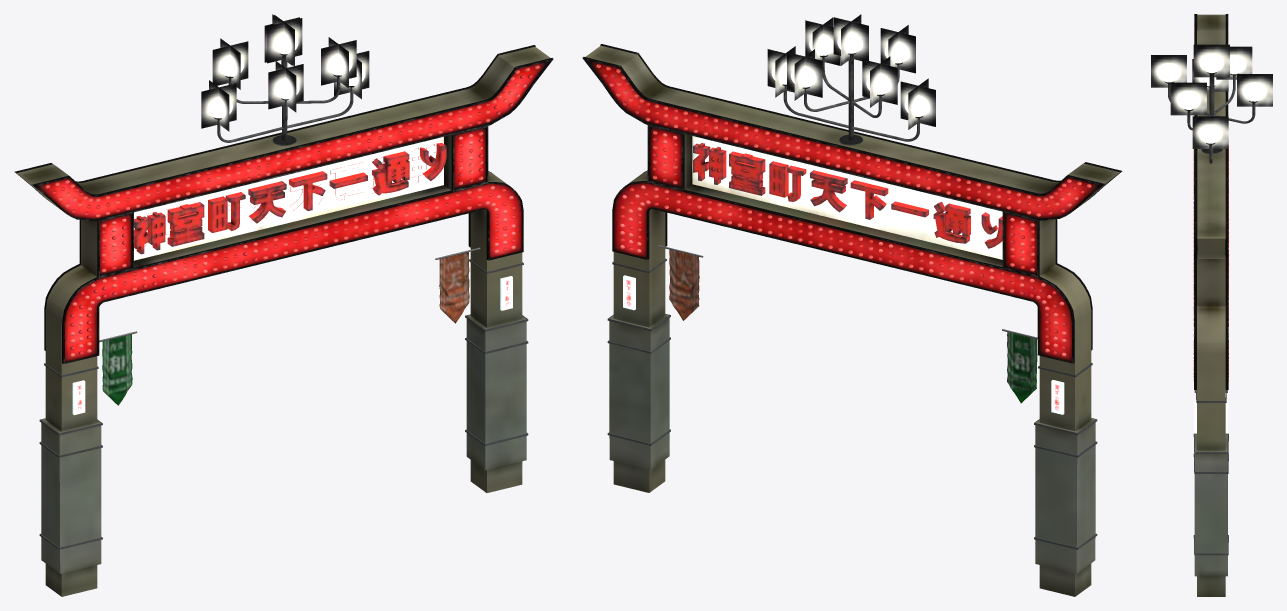
Rendered from kamuro_sign.glb.
3 views of the same model, side by side, from view 1: azimuth 30°, elevation 25°; view 2: azimuth 150°, elevation 25°; view 3: azimuth 270°, elevation 25° (orthographic). The views are drawn at different scales.
Visible parts, largest first — view 1: Cube, Cube.002, Cube.004, Cube.729, Cube.003, Grid.007, Grid.004, Cube.464, Cube.592, Cube.589, Cube.001, Plane.150 (+5 smaller); view 2: Cube, Cube.002, Cube.004, Cube.729, Cube.003, Grid.004, Grid.007, Cube.057, Cube.063, Cube.060, Cube.001, Plane.039 (+6 smaller); view 3: Cube, Cube.004, Cube.002, Plane.016, Plane.145, Plane.137, Plane.041, Plane.147, Plane.151, Sphere.018, Sphere.039, Sphere.026 (+7 smaller).
Part boxes in pixels (box(x1,y1,x2,y2)): Cube: box(17, 46, 550, 596); Cube.002: box(44, 171, 523, 364); Cube.004: box(14, 45, 553, 221); Cube.729: box(134, 137, 443, 260); Cube.003: box(79, 126, 488, 277); Grid.007: box(102, 334, 132, 405); Grid.004: box(439, 252, 469, 323); Cube.464: box(167, 202, 204, 246); Cube.592: box(372, 151, 409, 195); Cube.589: box(248, 181, 286, 223); Cube.001: box(72, 276, 512, 415); Plane.150: box(212, 41, 248, 85); Cube: box(585, 45, 1119, 596); Cube.002: box(612, 170, 1092, 363); Cube.004: box(582, 44, 1122, 220); Cube.729: box(692, 136, 1002, 259); Cube.003: box(647, 125, 1057, 276); Grid.004: box(669, 250, 699, 320); Grid.007: box(1007, 332, 1037, 403); Cube.057: box(729, 151, 765, 195); Cube.063: box(933, 202, 970, 243); Cube.060: box(810, 170, 847, 212); Cube.001: box(623, 275, 1064, 414); Plane.039: box(787, 52, 822, 97); Cube: box(1194, 14, 1227, 596); Cube.004: box(1194, 14, 1228, 258); Cube.002: box(1194, 149, 1228, 389); Plane.016: box(1193, 44, 1229, 77); Plane.145: box(1170, 82, 1206, 115); Plane.137: box(1192, 116, 1228, 148); Plane.041: box(1237, 74, 1272, 106); Plane.147: box(1151, 55, 1186, 87); Plane.151: box(1216, 46, 1252, 79); Sphere.018: box(1242, 82, 1267, 101); Sphere.039: box(1156, 63, 1181, 82); Sphere.026: box(1198, 124, 1222, 143).
Size of the model in its own units: 5167 by 4862 by 1186.
1 material, 1 textured.
